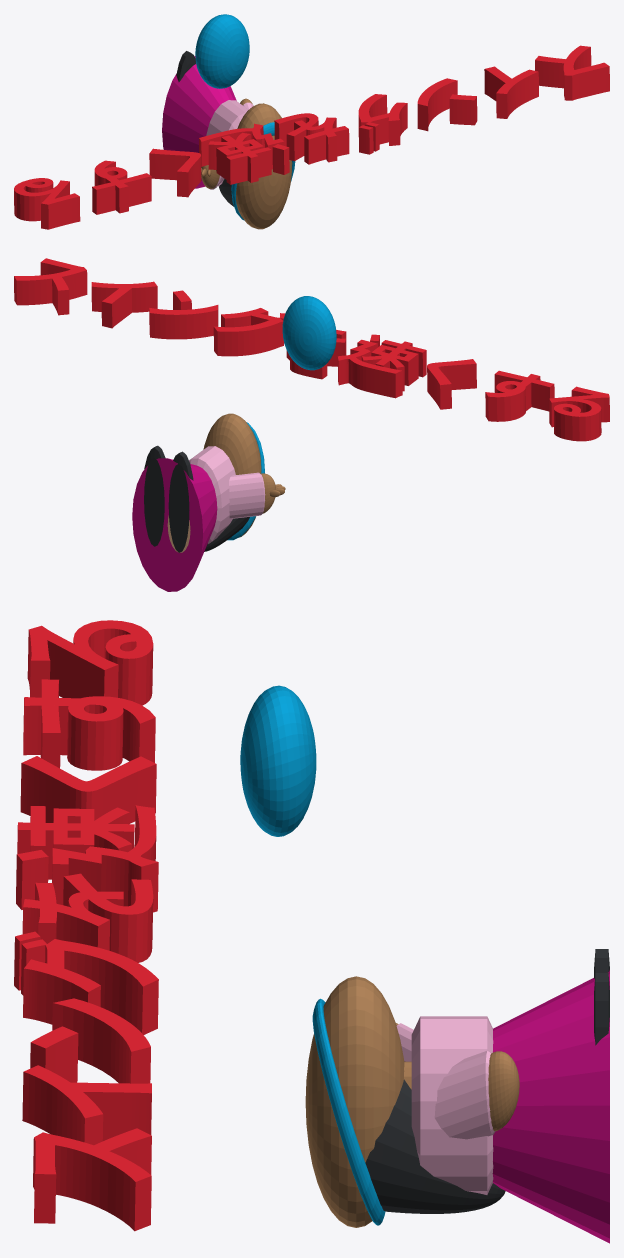
Rendered from tinker.obj.
3 renders of one model, top to bottom at view 1: azimuth 30°, elevation 25°; view 2: azimuth 150°, elevation 25°; view 3: azimuth 270°, elevation 25°, orthographic. The views are drawn at different scales.
Visible parts, largest first — view 1: group_0_15277357, group_0_14093196, group_0_40919, group_0_11107152, group_0_15708628, group_0_2829873; view 2: group_0_15277357, group_0_14093196, group_0_2829873, group_0_40919, group_0_15708628, group_0_11107152; view 3: group_0_15277357, group_0_14093196, group_0_11107152, group_0_15708628, group_0_40919, group_0_2829873.
Boxes of the visible parts, x1=… form: group_0_15277357: x1=14, y1=45, x2=609, y2=229; group_0_14093196: x1=162, y1=56, x2=236, y2=188; group_0_40919: x1=195, y1=14, x2=295, y2=220; group_0_11107152: x1=201, y1=98, x2=292, y2=229; group_0_15708628: x1=206, y1=100, x2=253, y2=189; group_0_2829873: x1=176, y1=51, x2=233, y2=206; group_0_15277357: x1=14, y1=258, x2=609, y2=441; group_0_14093196: x1=132, y1=458, x2=217, y2=591; group_0_2829873: x1=144, y1=445, x2=249, y2=552; group_0_40919: x1=227, y1=296, x2=336, y2=540; group_0_15708628: x1=189, y1=446, x2=265, y2=543; group_0_11107152: x1=203, y1=413, x2=285, y2=537; group_0_15277357: x1=14, y1=620, x2=158, y2=1231; group_0_14093196: x1=492, y1=970, x2=609, y2=1243; group_0_11107152: x1=305, y1=976, x2=519, y2=1227; group_0_15708628: x1=396, y1=1016, x2=495, y2=1194; group_0_40919: x1=240, y1=685, x2=385, y2=1225; group_0_2829873: x1=365, y1=949, x2=609, y2=1213.
Bounding box in the file's own units: 244 × 100 × 110.
